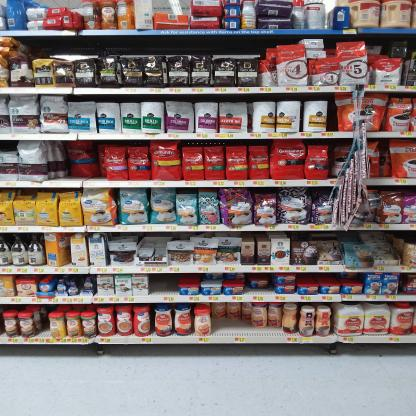empty_space: (151, 274, 174, 298)
